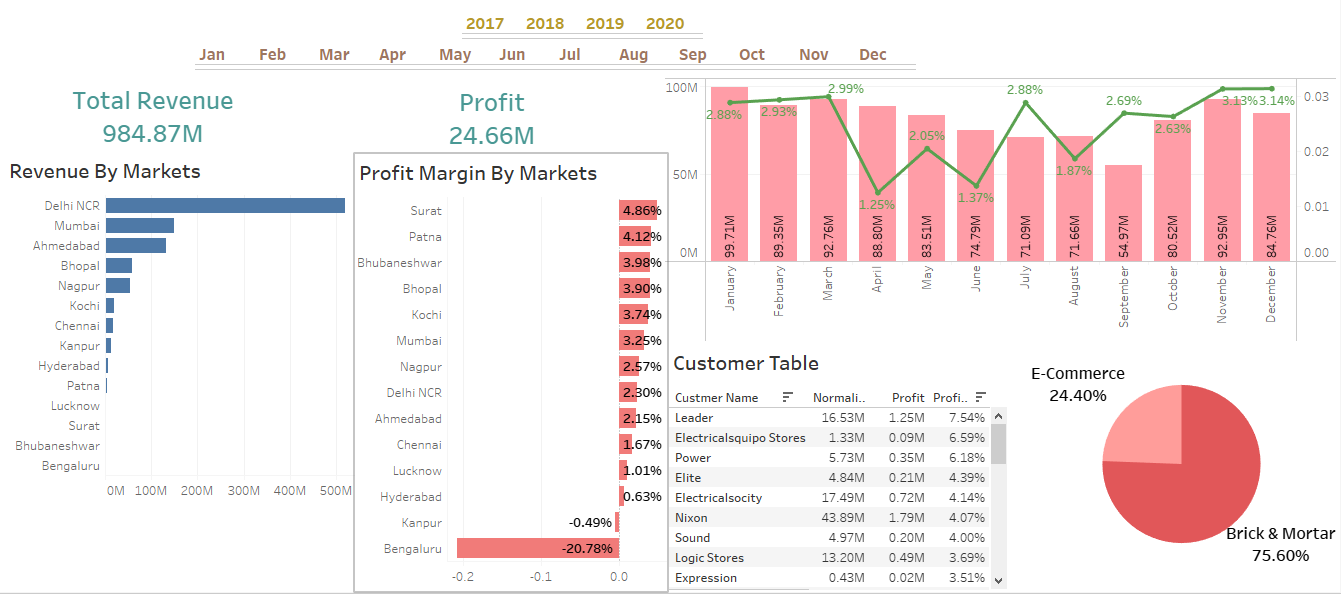

The page's visual inventory and layout, read from the dashboard file:
{"tool":"tableau","page":{"name":"Dashboard - Profit Analysis","canvas":[1000,1000],"units":"permille","ordinal":0},"visuals":[{"type":"worksheet","title":"Year","mark":"Automatic","cols":["cy_date"],"box":[344.3,22,205.9,60.8]},{"type":"worksheet","title":"Month","mark":"Automatic","cols":["cy_date"],"box":[147.7,72.6,610.1,55.7]},{"type":"worksheet","title":"Profit Trend","mark":"Bar","rows":["normalized_amount","Calculation_456833918078529537"],"cols":["cy_date"],"box":[496.2,131.8,501.3,445.9]},{"type":"worksheet","title":"Revenue","mark":"Automatic","box":[47.3,140.2,157,123.3]},{"type":"worksheet","title":"Profit","mark":"Automatic","box":[330,143.6,94.5,135.1]},{"type":"worksheet","title":"Revenue By Markets","mark":"Automatic","rows":["markets_name"],"cols":["normalized_amount"],"box":[3.4,256.8,262.4,738.2]},{"type":"worksheet","title":"Profit Margin By Markets ","mark":"Automatic","rows":["markets_name"],"cols":["Calculation_456833918078529537"],"box":[265,260.1,232.9,741.6]},{"type":"worksheet","title":"Customer Table","mark":"Automatic","rows":["custmer_name"],"box":[494.5,582.8,284.4,415.5]},{"type":"worksheet","title":"Pie Chart","mark":"Pie","box":[766.2,594.6,232.1,408.8]}]}

Visuals, with their boxes on the dashboard's canvas, which has no fixed pixel size, in thousandths of its width and height (x1, y1, x2, y2). These are canvas units, not pixel positions in the 1341x594 screenshot, which may show the page scaled, cropped or inside an application window:
"Year" worksheet: box=[344, 22, 550, 83]
"Month" worksheet: box=[148, 73, 758, 128]
"Profit Trend" worksheet (Bar marks): box=[496, 132, 998, 578]
"Revenue" worksheet: box=[47, 140, 204, 264]
"Profit" worksheet: box=[330, 144, 424, 279]
"Revenue By Markets" worksheet: box=[3, 257, 266, 995]
"Profit Margin By Markets " worksheet: box=[265, 260, 498, 1002]
"Customer Table" worksheet: box=[494, 583, 779, 998]
"Pie Chart" worksheet (Pie marks): box=[766, 595, 998, 1003]
